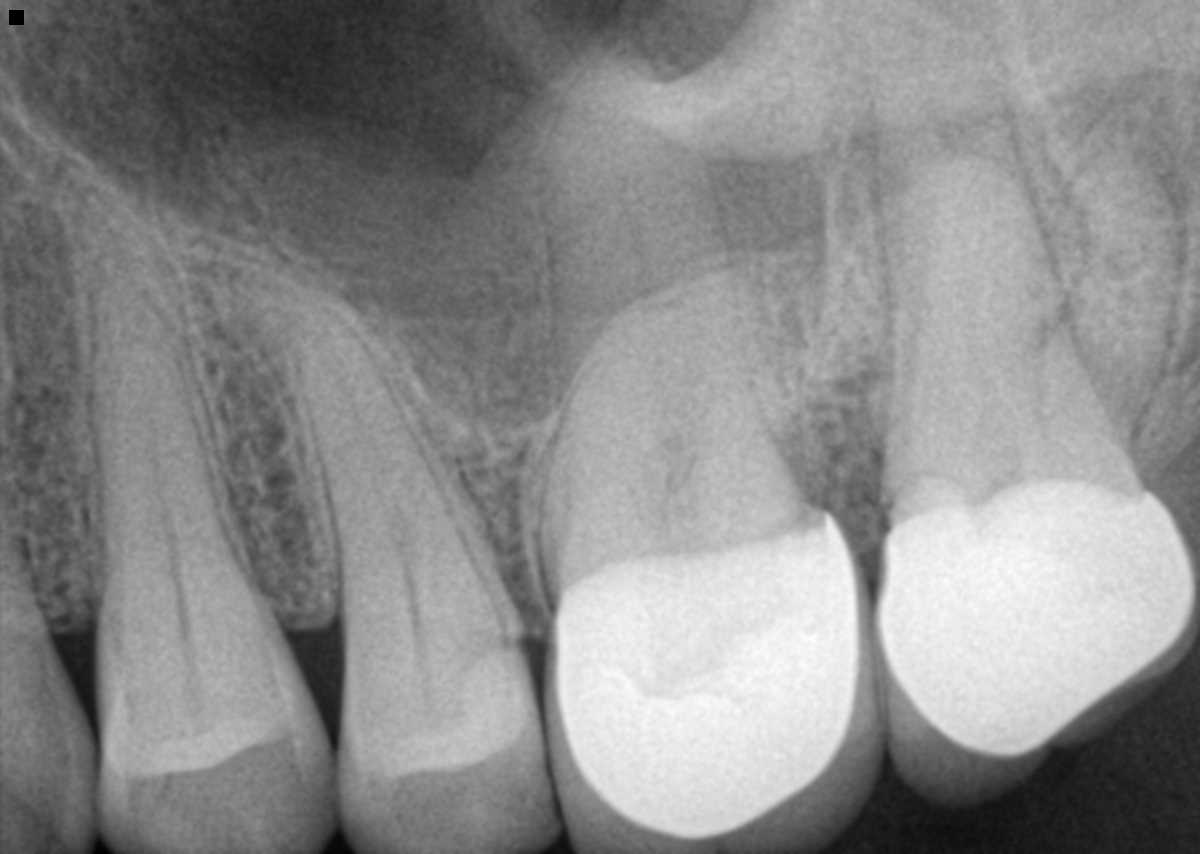Apical Lesion: (842, 62, 1054, 236)
Distal Root: (1046, 150, 1185, 451)
Main Canal: (332, 368, 419, 586), (145, 411, 183, 578)
Main Root: (547, 249, 832, 598), (294, 306, 494, 602), (89, 256, 234, 590), (0, 426, 43, 624)
Mesial Root: (886, 155, 1041, 454)
Palatal Root: (544, 39, 782, 559), (866, 0, 1081, 445)
